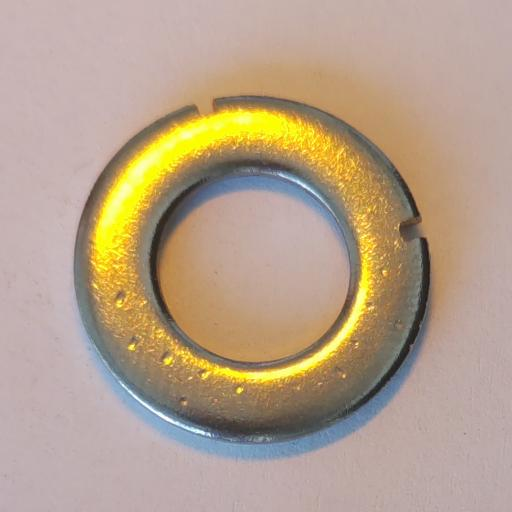burr: (399, 215, 428, 244), (195, 98, 215, 116)
